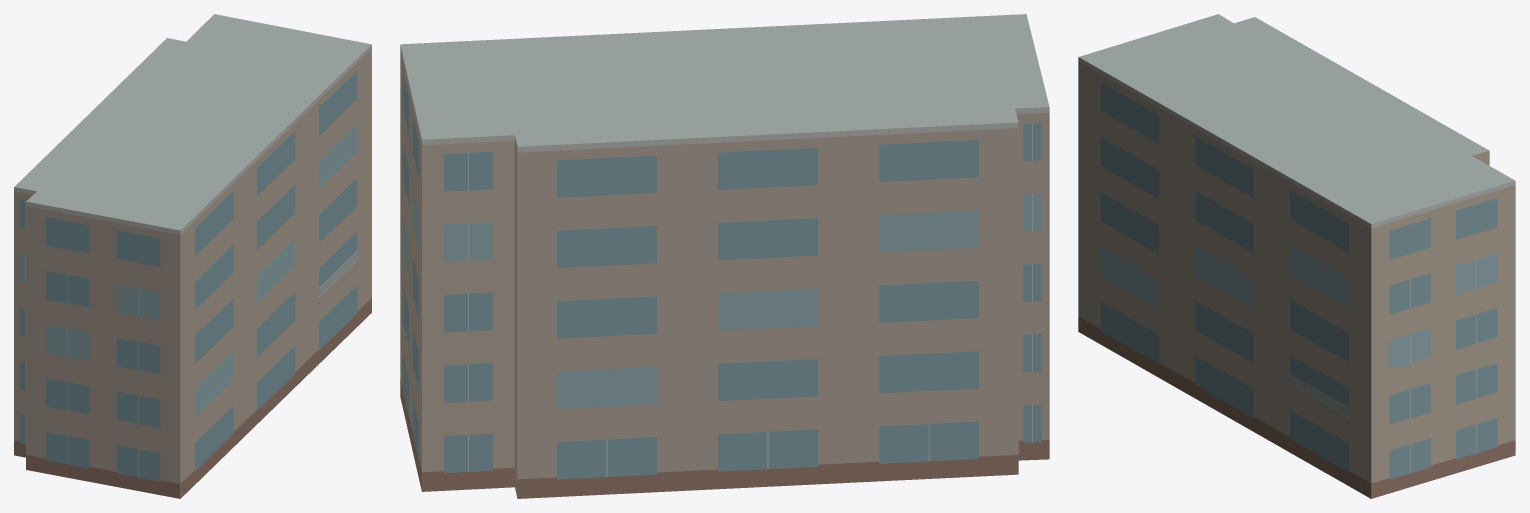
File: survey-upis-32911782.glb
3 renders of one model, left to right at view 1: azimuth 30°, elevation 25°; view 2: azimuth 150°, elevation 25°; view 3: azimuth 270°, elevation 25°, orthographic. The views are drawn at different scales.
Parts seen in each view (by area): view 1: survey-upis-32911782.tmp; view 2: survey-upis-32911782.tmp; view 3: survey-upis-32911782.tmp.
Part boxes in pixels (<box>): survey-upis-32911782.tmp: <box>14,14,371,498</box>; survey-upis-32911782.tmp: <box>400,14,1049,498</box>; survey-upis-32911782.tmp: <box>1078,14,1515,498</box>.
Size of the model in its own units: 24.84 by 15.15 by 21.84.
